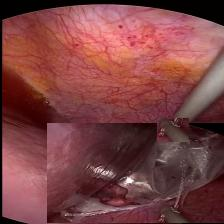Irrigator: (156, 118, 188, 142)
Specimen Bag: (46, 123, 224, 223)
